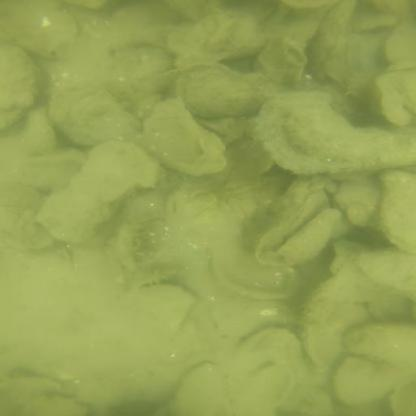Oyster- Indeterminate: (218, 252, 302, 300), (260, 39, 308, 82)
Oyster-Closed: (253, 92, 414, 174), (38, 140, 156, 240), (299, 265, 370, 367), (258, 180, 332, 266), (49, 86, 137, 144), (168, 13, 263, 64), (1, 0, 75, 59), (177, 66, 264, 115), (348, 248, 415, 303), (167, 362, 235, 416), (278, 210, 337, 265), (124, 285, 196, 329), (333, 356, 395, 405), (335, 176, 383, 237), (343, 322, 412, 363), (381, 171, 414, 254), (5, 45, 36, 126), (378, 78, 413, 124), (281, 387, 333, 415), (26, 395, 84, 416), (387, 22, 413, 65), (369, 1, 414, 15)
